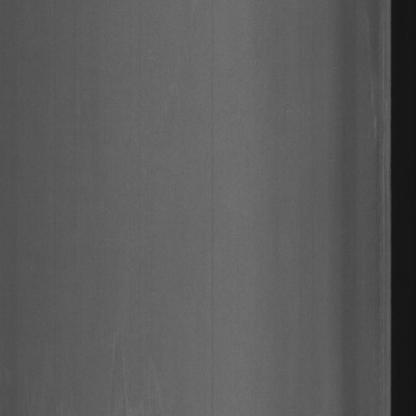silk_spot: (368, 36, 390, 282)
